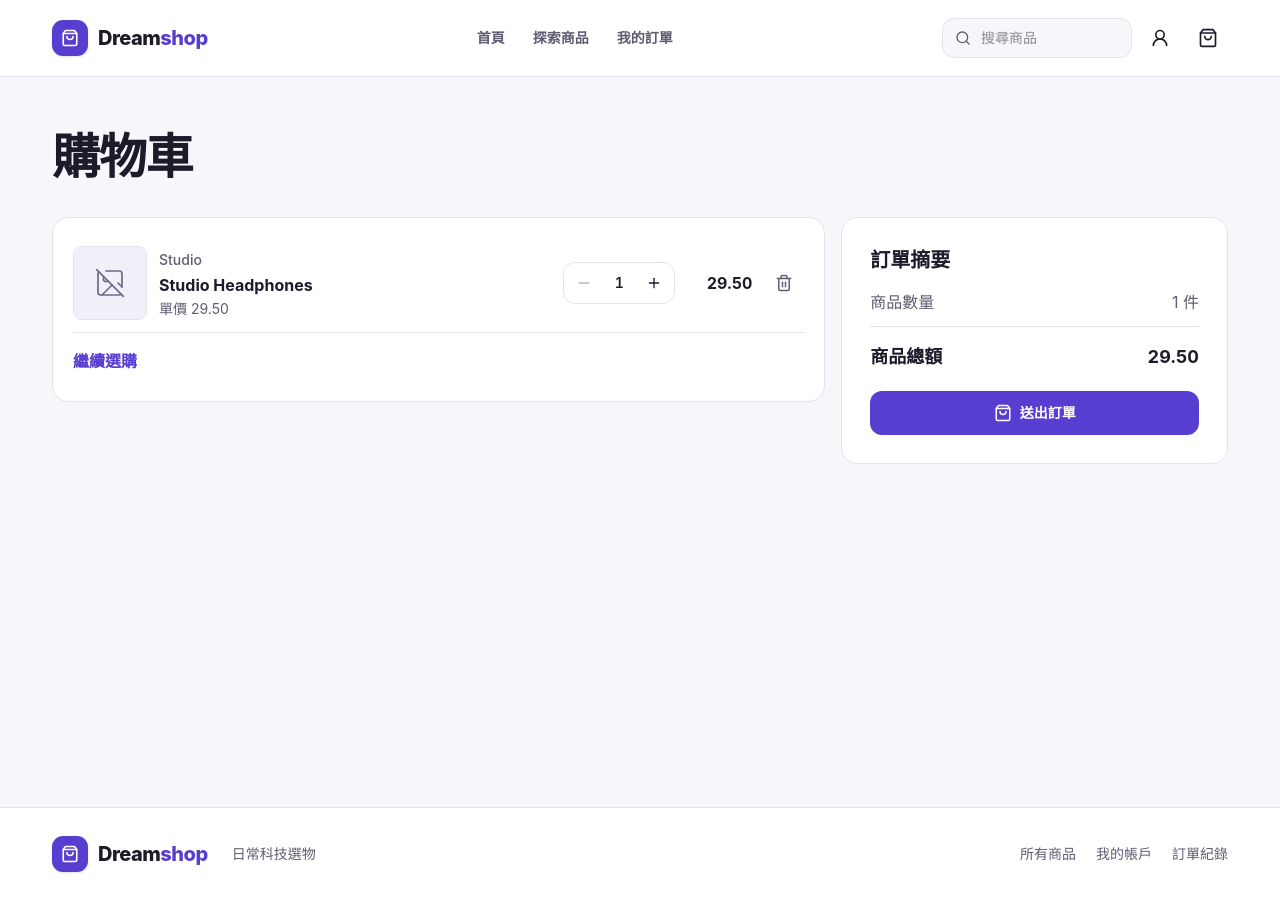
Test: Dreamshop › updates cart quantity and submits an order using the authenticated user ID
What coordinates should you click on to do the following:
click the button named "增加Studio Headphones數量"
I would click on:
 (654, 283)
Its box is [634,263,674,303].
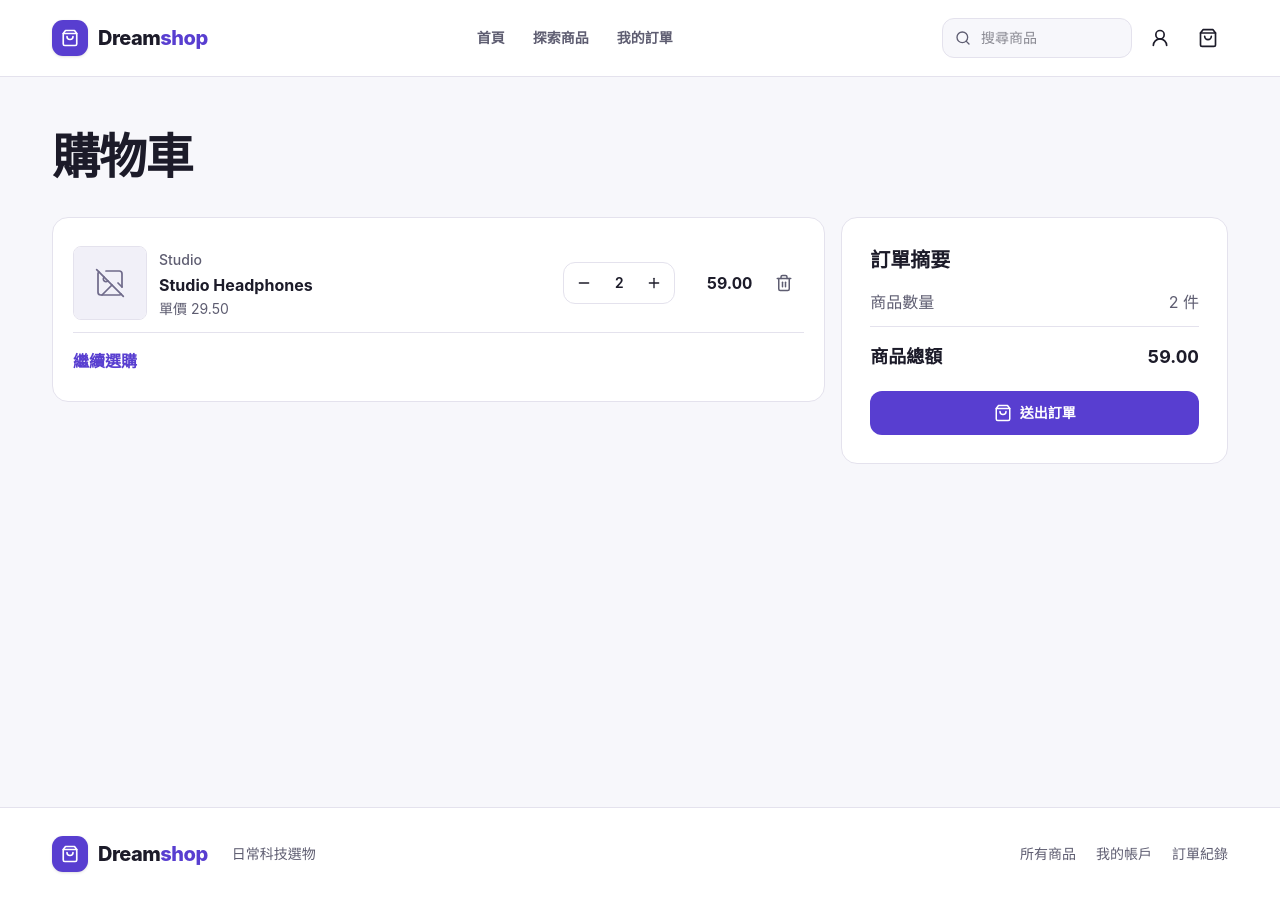
Expected: the text "59.00" in the row of "商品總額" is shown, [1148,346,1199,367]
What coordinates should you click on to do the following:
click the button "送出訂單"
I would click on:
 (1035, 413)
Its box is [870,391,1199,435].
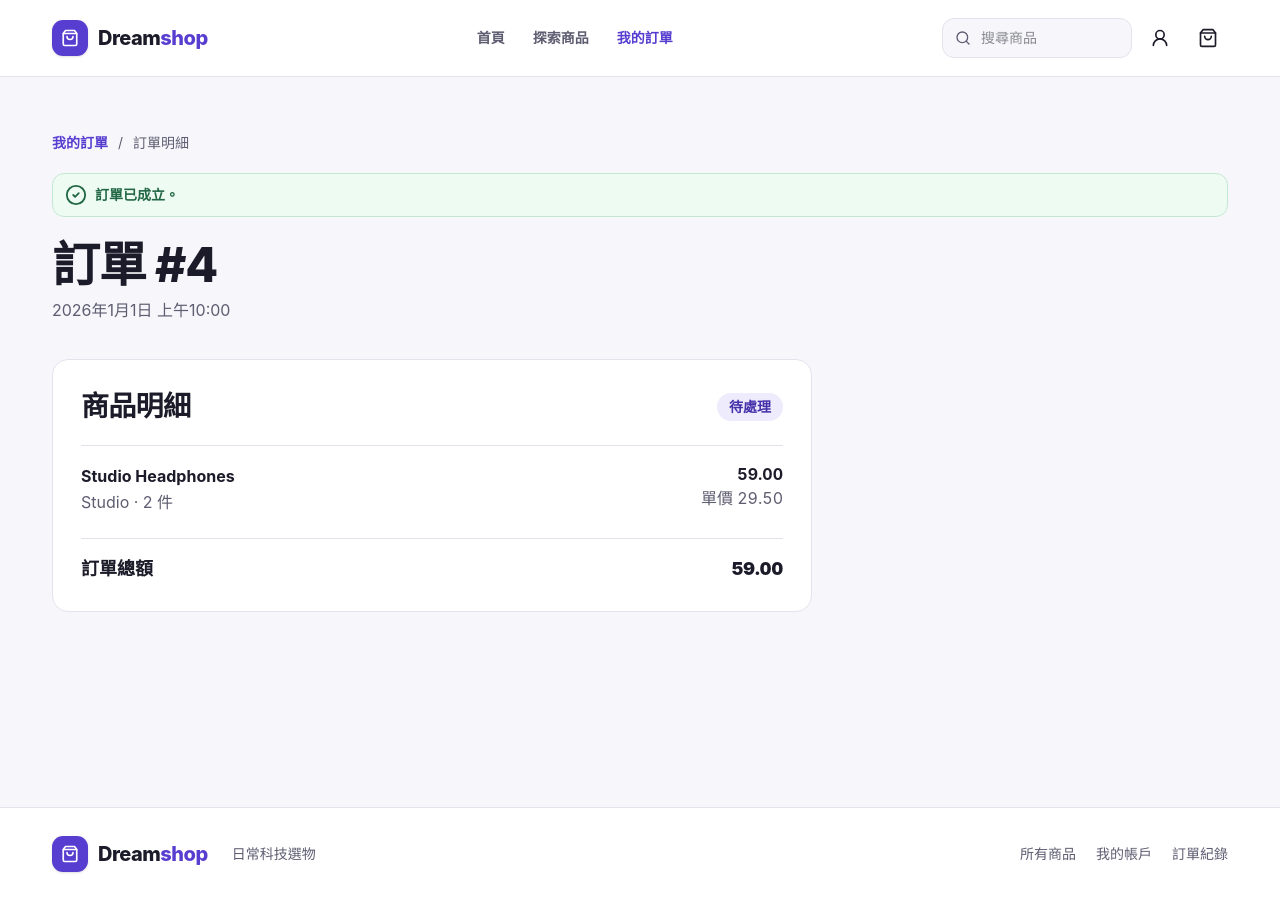
Expected: the heading "訂單 #4" is shown, [52,235,217,294]
Expected: the text "訂單已成立。" is shown, [52,173,1228,217]
